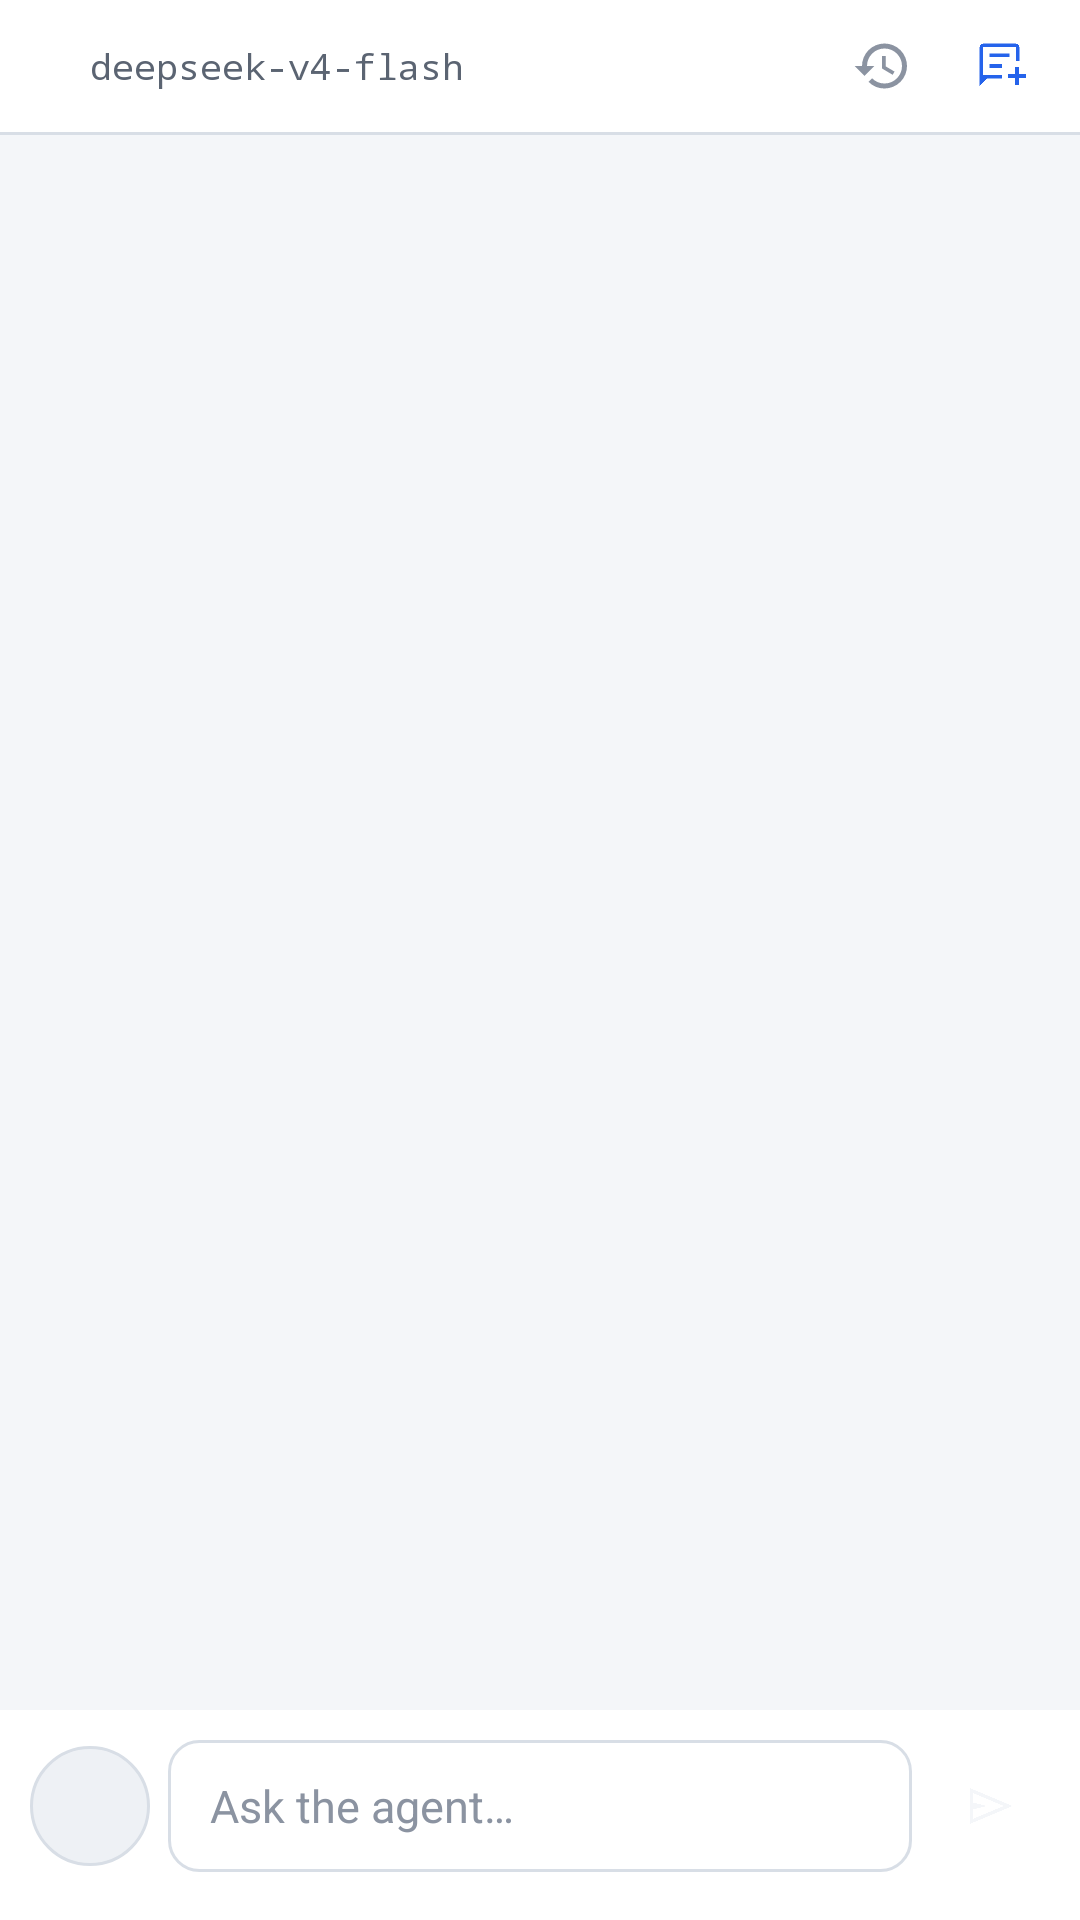

Icons on this 1080 x 1920 Android screen, each with the point to tap as (x,y):
add: (1002,64)
history: (881,66)
